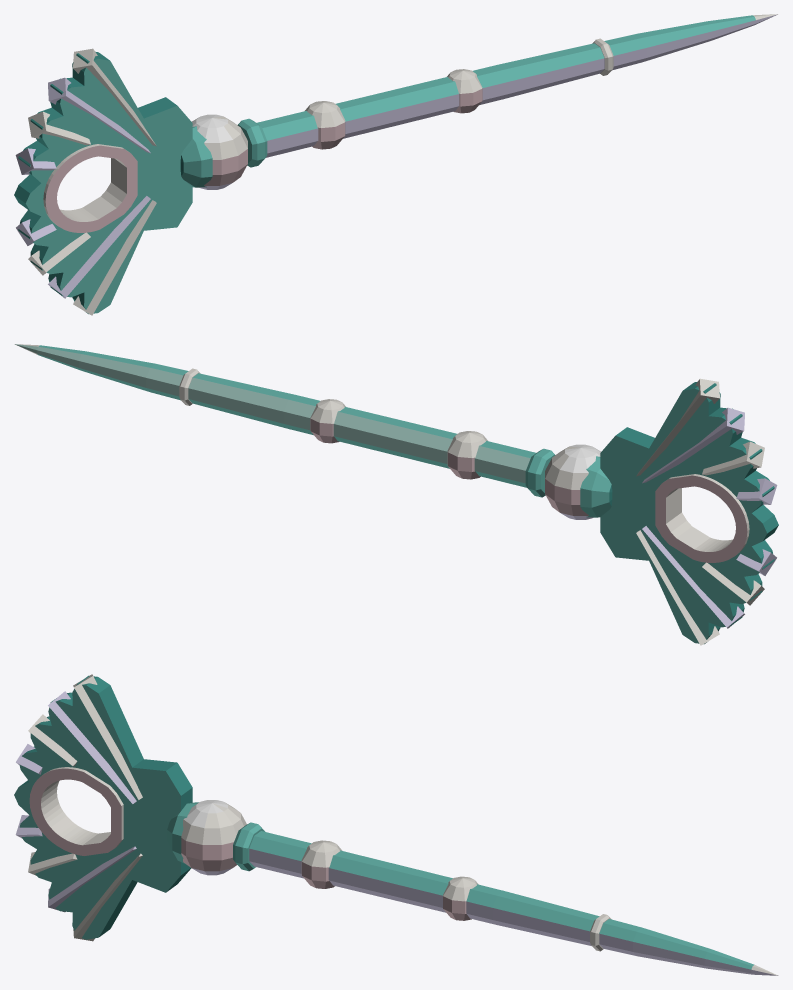
Rendered from needle_pearl.glb.
3 renders of one model, top to bottom at view 1: azimuth 30°, elevation 25°; view 2: azimuth 150°, elevation 25°; view 3: azimuth 330°, elevation 25°, orthographic.
Visible parts, largest first — view 1: needle_pearl; view 2: needle_pearl; view 3: needle_pearl.
Part boxes in pixels (x1=…): needle_pearl: x1=14, y1=14, x2=778, y2=315; needle_pearl: x1=14, y1=344, x2=778, y2=645; needle_pearl: x1=14, y1=674, x2=778, y2=975.
Size of the model in its own units: 0.6 by 0.2006 by 0.049.
